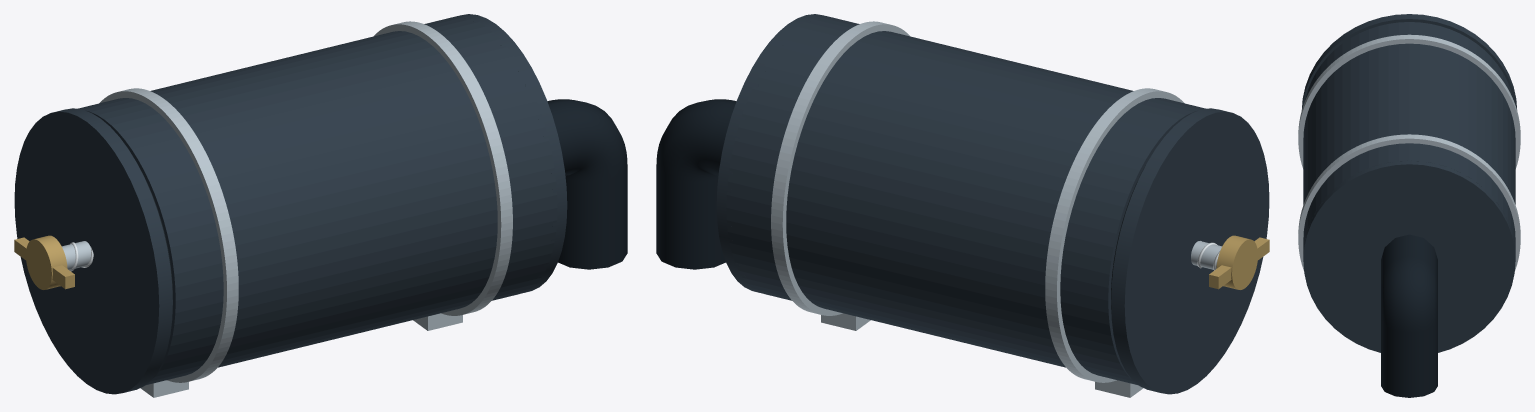
File: air-filter.glb
3 views of the same model, side by side, from view 1: azimuth 30°, elevation 25°; view 2: azimuth 150°, elevation 25°; view 3: azimuth 270°, elevation 25° (orthographic). The views are drawn at different scales.
Parts seen in each view (by area): view 1: Vỏ lọc khí, Nắp đầu và đai ốc tai; view 2: Vỏ lọc khí, Nắp đầu và đai ốc tai; view 3: Vỏ lọc khí, Nắp đầu và đai ốc tai.
Boxes of the visible parts, x1,y1,x2,y2 form: Vỏ lọc khí: [78, 14, 627, 397]; Nắp đầu và đai ốc tai: [14, 108, 172, 394]; Vỏ lọc khí: [656, 14, 1205, 397]; Nắp đầu và đai ốc tai: [1111, 108, 1269, 394]; Vỏ lọc khí: [1298, 22, 1520, 397]; Nắp đầu và đai ốc tai: [1302, 14, 1516, 108].
Size of the model in its own units: 2.98 by 1.39 by 1.32.
